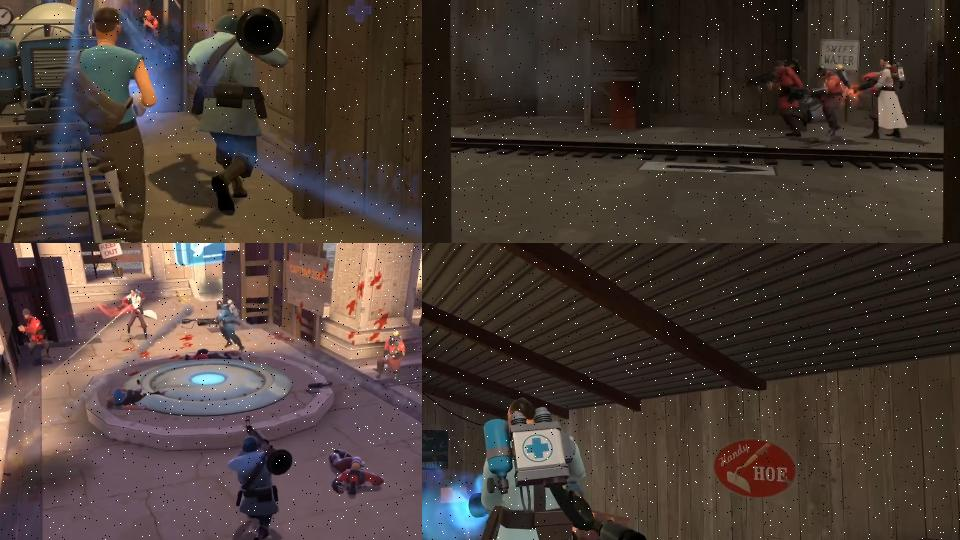Enemy: (447, 395, 638, 540), (63, 7, 158, 243), (193, 7, 288, 207), (232, 425, 293, 540), (745, 52, 806, 139), (780, 63, 850, 137), (851, 58, 907, 139), (183, 301, 250, 358), (322, 449, 387, 500), (117, 288, 158, 341), (106, 381, 164, 410), (375, 326, 404, 382), (18, 307, 50, 357), (141, 10, 159, 48)
